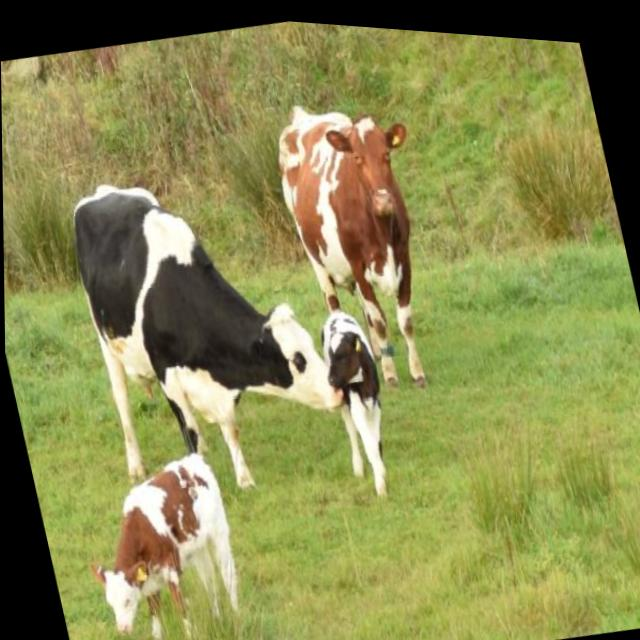cowFace: (319, 91, 427, 220)
